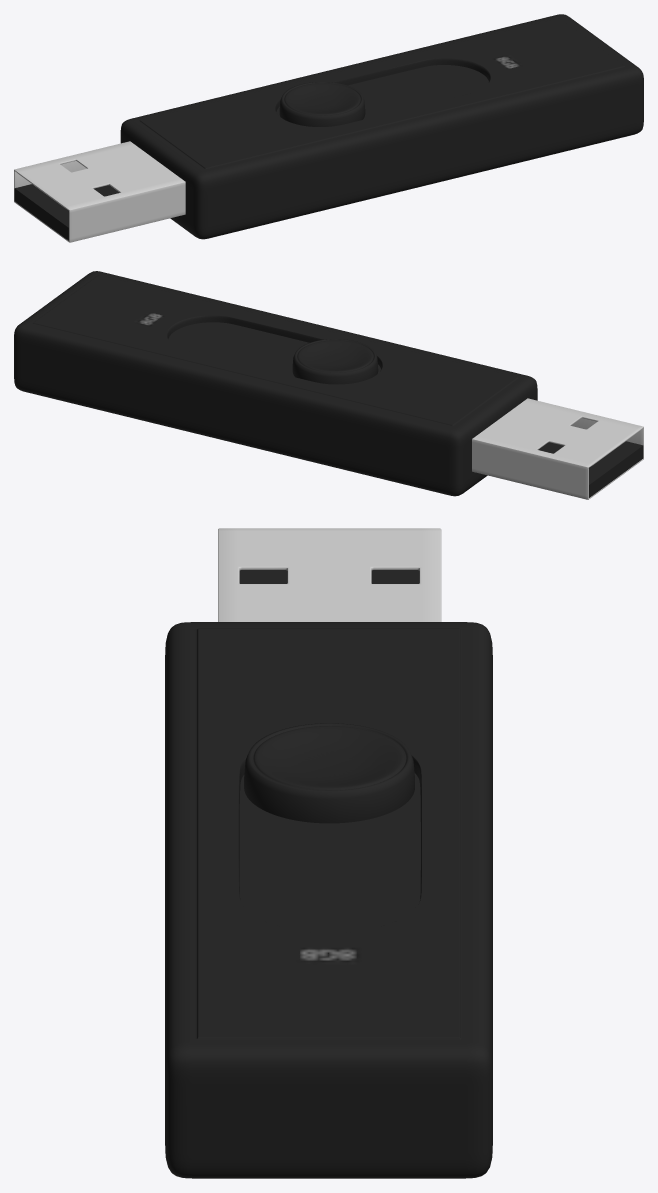
Rendered from dev-usb-flash.glb.
3 views of the same model, one above another, from view 1: azimuth 30°, elevation 25°; view 2: azimuth 150°, elevation 25°; view 3: azimuth 270°, elevation 25° (orthographic). The views are drawn at different scales.
Visible parts, largest first — view 1: body; view 2: body; view 3: body.
Part boxes in pixels (x1=…): body: x1=14, y1=14, x2=643, y2=242; body: x1=14, y1=271, x2=643, y2=499; body: x1=165, y1=528, x2=492, y2=1178.
Size of the model in its own units: 0.06 by 0.00767 by 0.0151.
3 materials, 2 textured.
